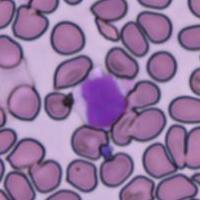M: (74, 71, 128, 130)
